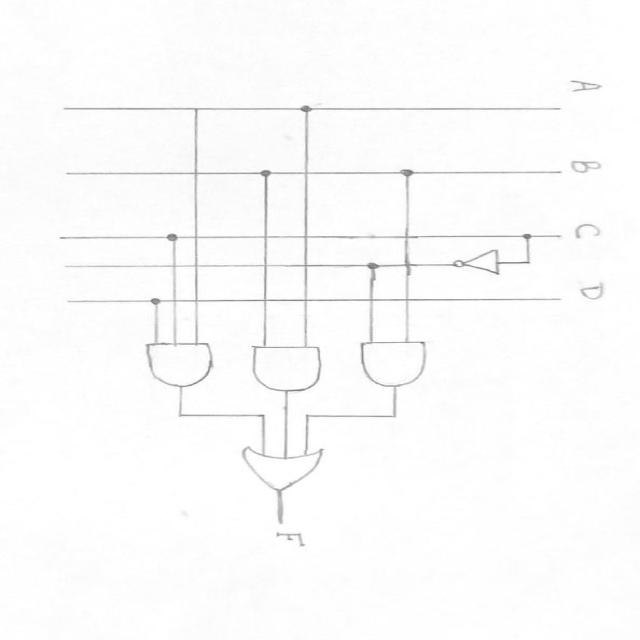AND: (241, 338, 334, 396), (132, 334, 225, 390), (353, 336, 446, 389)
NOT: (438, 244, 518, 283)
OR: (224, 437, 347, 497)
